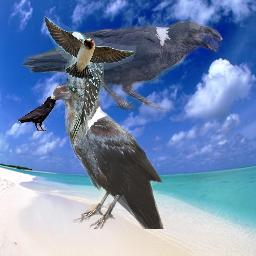Crow: (20, 18, 223, 112), (50, 79, 165, 229), (16, 95, 61, 131)
Swallow: (43, 15, 136, 79)
Woodpecker: (62, 31, 104, 142)
